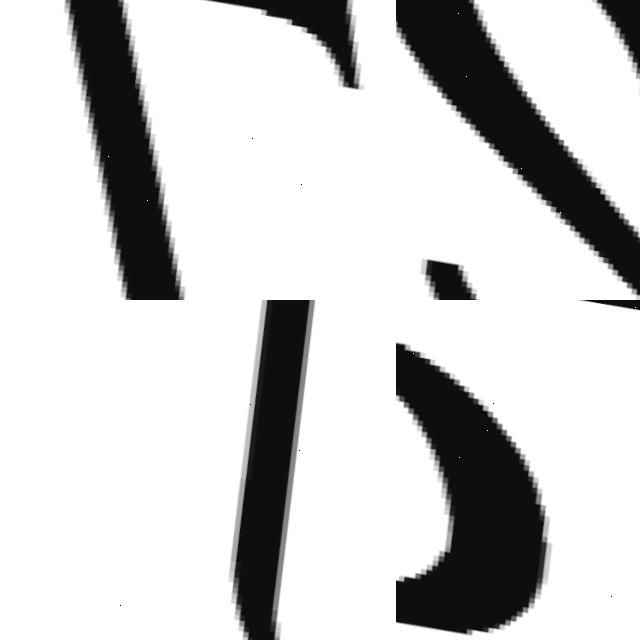2: (396, 0, 640, 300)
7: (0, 0, 396, 300)
9: (396, 300, 640, 640)
J: (121, 300, 396, 640)
